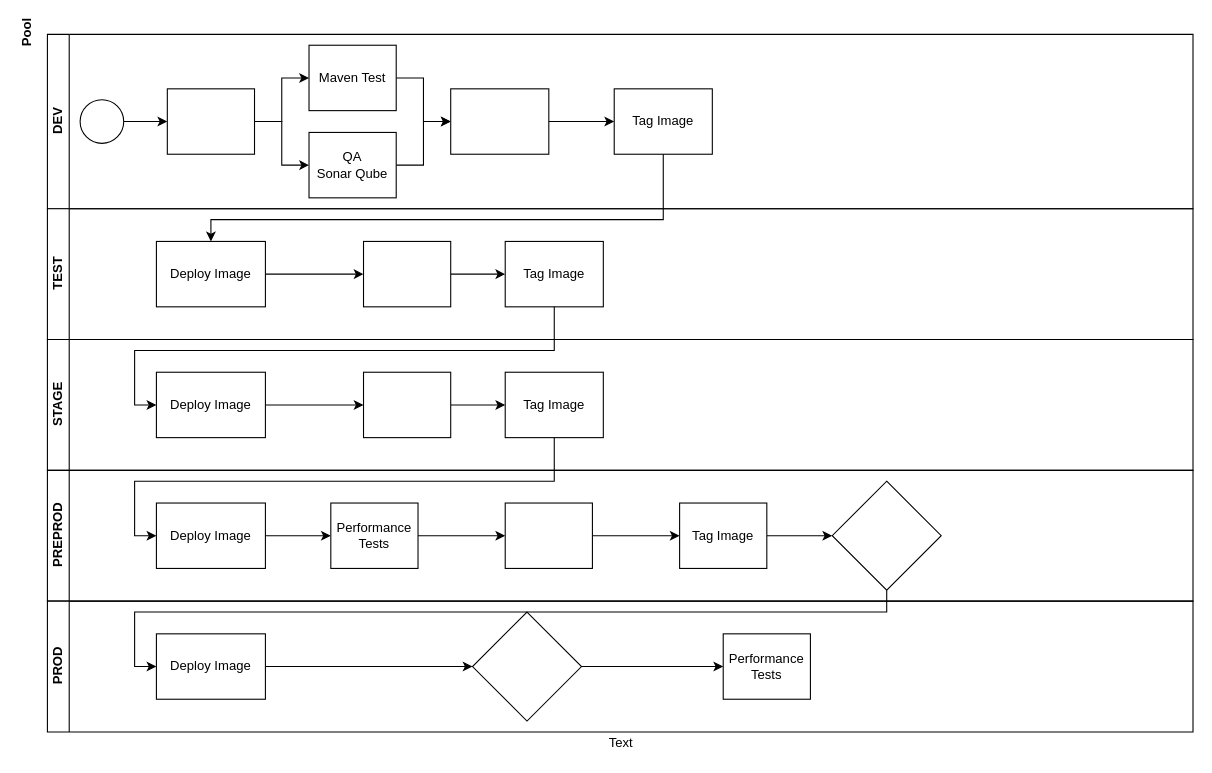
The diagram is 1212 pixels wide and 773 high, and some of its shapes have lost their labels. The shapes that lost their labels are listed below. From the top down, each one's centre as x and y in pixels, then its label:
the point at 101,121: GitLab
the point at 210,121: Maven Build
the point at 499,121: OpenShift Build (s2i)
the point at 406,273: Automated Functional Tests
the point at 406,404: Integration Tests
the point at 548,535: Load Tests
the point at 886,535: Deploy to PROD?
the point at 526,666: Performance Tests?
